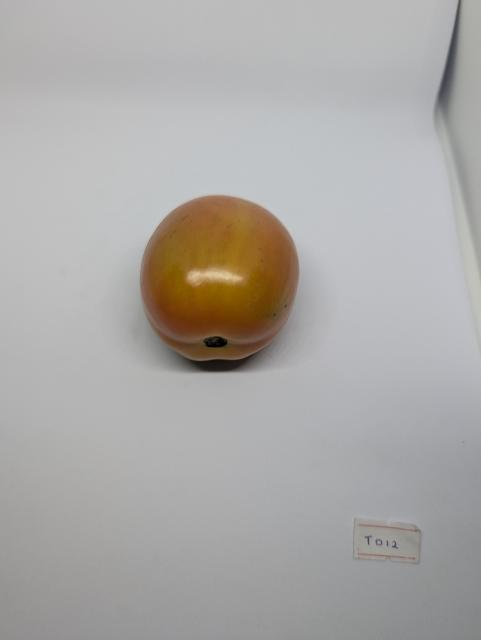turning: (135, 190, 304, 369)
